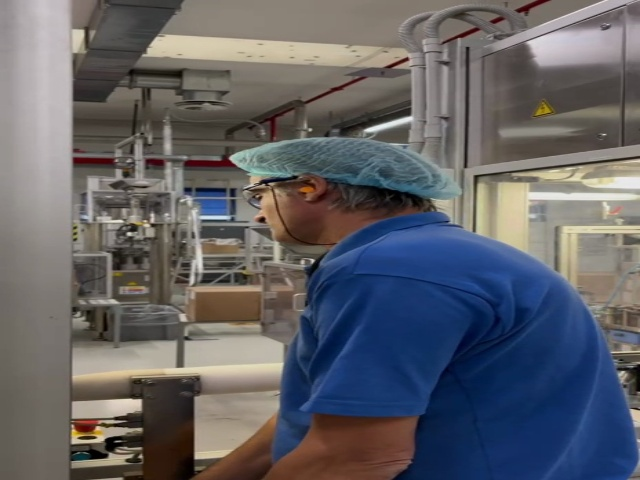Earplug: (292, 173, 327, 204)
Hairnet: (231, 136, 453, 197)
No_Helmet: (232, 138, 449, 195)
No_Vest: (294, 237, 636, 480)
Person: (230, 137, 633, 480)
Safety_Goggles: (242, 177, 301, 205)
